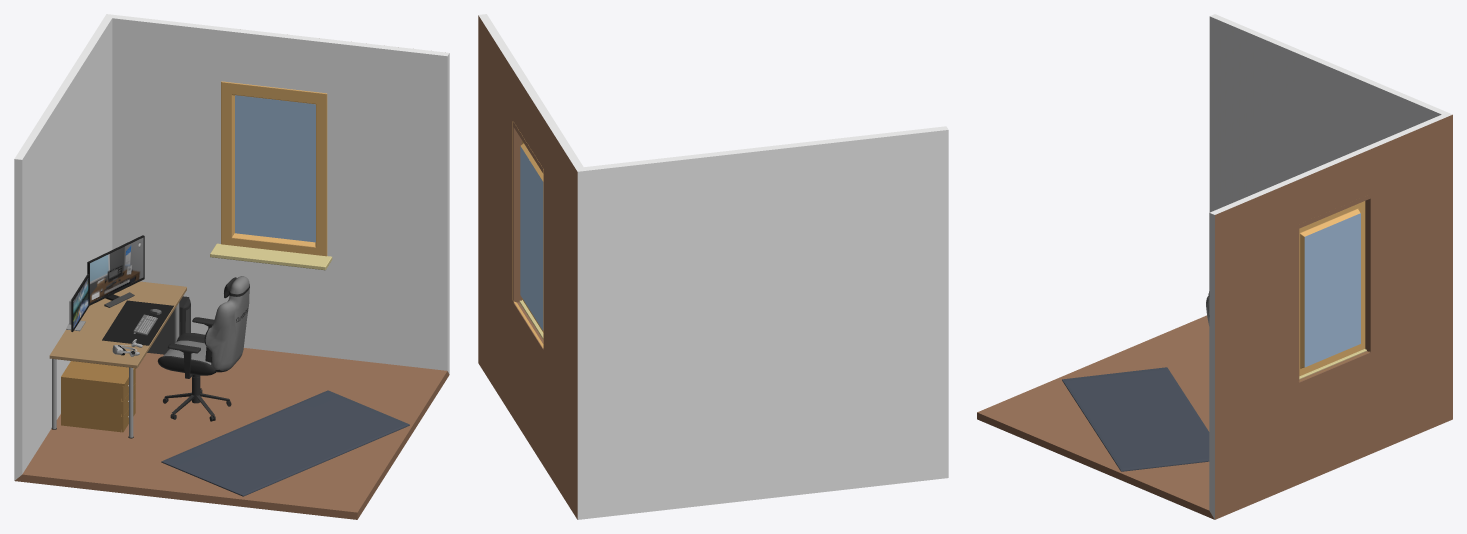
Rendered from room_including_quest2.glb.
The picture shows the model from 3 angles, left to right: view 1: azimuth 30°, elevation 25°; view 2: azimuth 150°, elevation 25°; view 3: azimuth 270°, elevation 25°; orthographic projection. The views are drawn at different scales.
Visible parts, largest first — view 1: Env, Floor Mat, Window, Window Frame, Chair, Table Top, Drawer, Monitor Right Screen, Table Mat, PC, Table Leg, Monitor Right (+1 smaller); view 2: Env, Window, Window Frame; view 3: Env, Floor Mat, Window, Window Frame.
Boxes of the visible parts, left/top/right/bottom form: Env: left=14, top=14, right=449, bottom=519; Floor Mat: left=161, top=390, right=409, bottom=496; Window: left=235, top=95, right=315, bottom=242; Window Frame: left=210, top=81, right=332, bottom=270; Chair: left=157, top=276, right=249, bottom=421; Table Top: left=49, top=281, right=186, bottom=368; Drawer: left=61, top=361, right=135, bottom=432; Monitor Right Screen: left=90, top=237, right=143, bottom=302; Table Mat: left=102, top=300, right=173, bottom=345; PC: left=147, top=296, right=190, bottom=354; Table Leg: left=51, top=302, right=179, bottom=438; Monitor Right: left=87, top=235, right=144, bottom=307; Env: left=478, top=14, right=948, bottom=519; Window: left=520, top=146, right=543, bottom=330; Window Frame: left=512, top=121, right=543, bottom=348; Env: left=977, top=14, right=1452, bottom=519; Floor Mat: left=1062, top=367, right=1209, bottom=471; Window: left=1304, top=213, right=1360, bottom=367; Window Frame: left=1299, top=201, right=1369, bottom=381.
Size of what is drawn, in the model's own units: 10.44 by 7.38 by 10.44.
33 materials, 3 textured.
